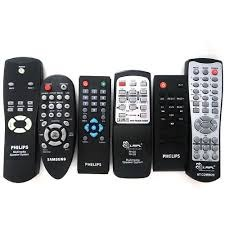remote control: (187, 56, 225, 183), (4, 59, 40, 182), (116, 71, 155, 180), (76, 74, 112, 177), (154, 73, 187, 176), (45, 74, 75, 182)
